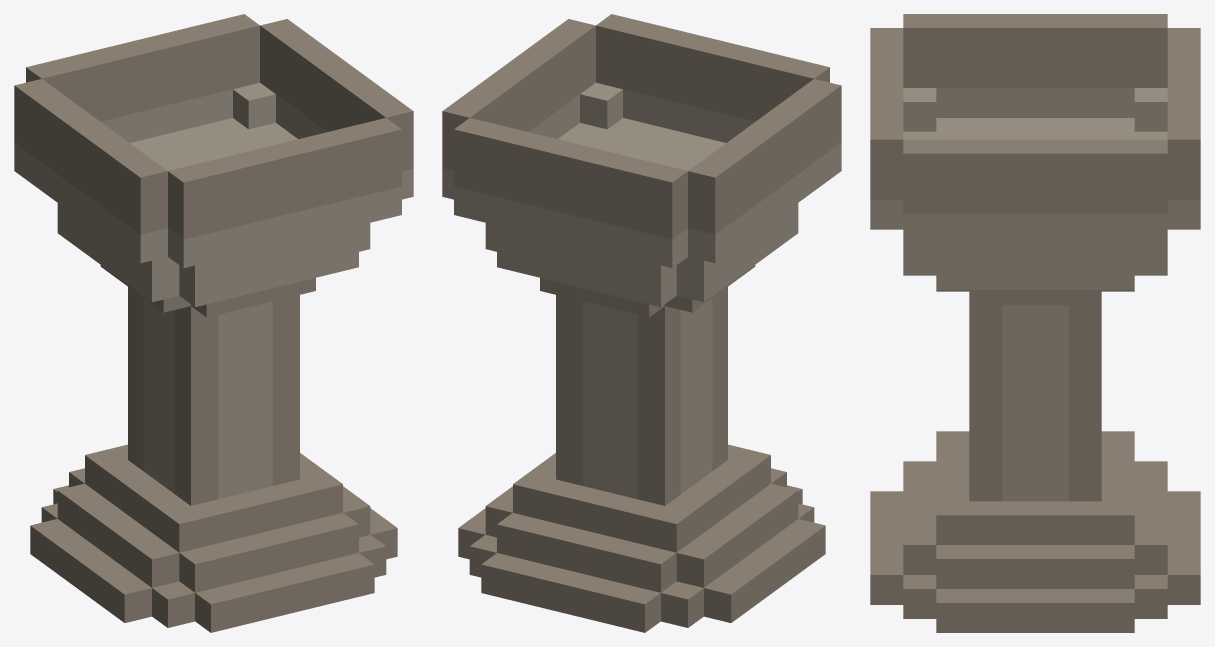
The model's file is Agua Benta.obj.
3 views of the same model, side by side, from view 1: azimuth 30°, elevation 25°; view 2: azimuth 150°, elevation 25°; view 3: azimuth 270°, elevation 25° (orthographic). The views are drawn at different scales.
Size of the model in its own units: 1 by 1.6 by 1.
1 material, 1 textured.
